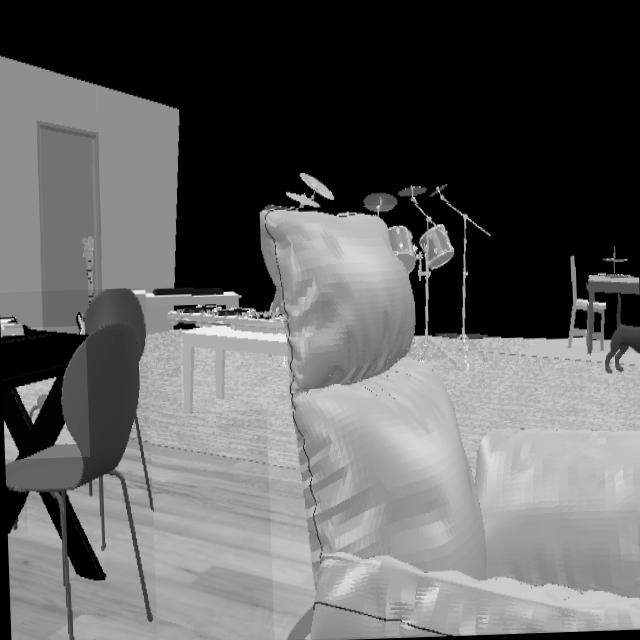chair: (5, 288, 152, 640), (569, 256, 588, 345), (593, 301, 607, 349)
sofa: (260, 208, 640, 638)
table: (0, 329, 86, 459), (180, 325, 287, 412), (587, 277, 637, 353), (66, 499, 105, 580), (6, 489, 26, 533)
